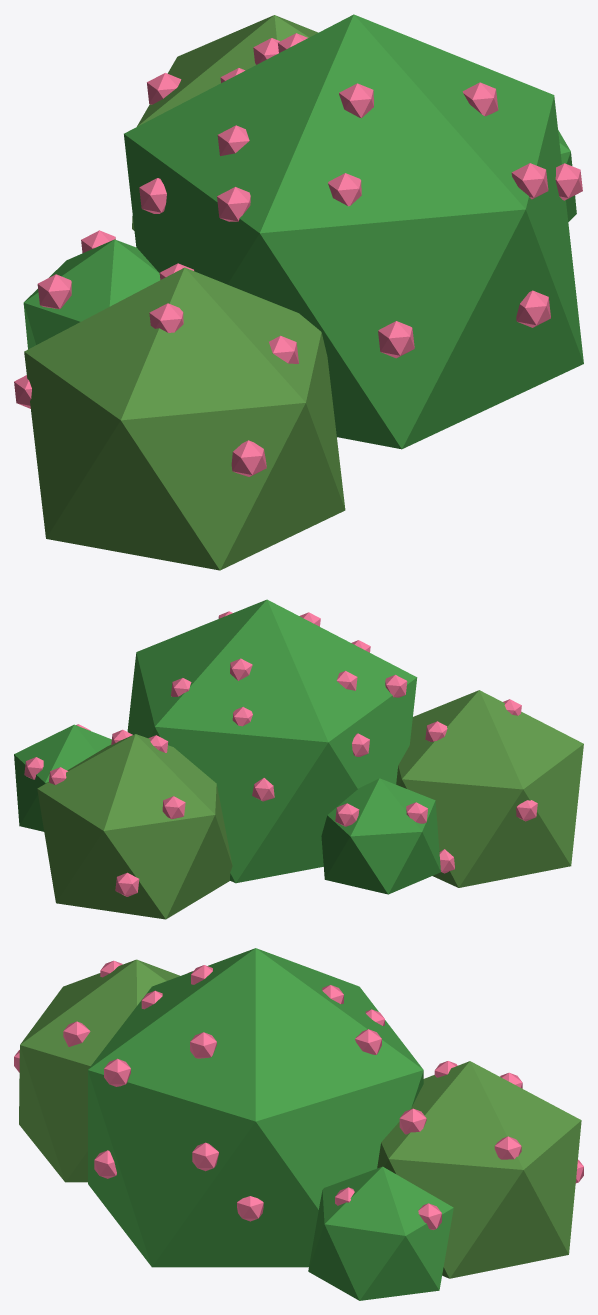
File: MediumFoodBush.fbx
3 views of the same model, one above another, from view 1: azimuth 30°, elevation 25°; view 2: azimuth 150°, elevation 25°; view 3: azimuth 270°, elevation 25° (orthographic). The views are drawn at different scales.
Visible parts, largest first — view 1: Icosphere, Icosphere.002, Icosphere.005, Icosphere.003, Icosphere.001; view 2: Icosphere, Icosphere.001, Icosphere.002, Icosphere.003, Icosphere.005, Icosphere.004; view 3: Icosphere, Icosphere.001, Icosphere.002, Icosphere.004, Icosphere.005.
Part boxes in pixels (x1,y1,x2,y2): Icosphere: [124, 14, 583, 449]; Icosphere.002: [24, 267, 345, 570]; Icosphere.005: [14, 33, 582, 476]; Icosphere.003: [23, 239, 160, 349]; Icosphere.001: [132, 15, 318, 230]; Icosphere: [127, 599, 417, 883]; Icosphere.001: [37, 734, 232, 919]; Icosphere.002: [396, 690, 583, 887]; Icosphere.003: [321, 778, 440, 894]; Icosphere.005: [24, 611, 537, 896]; Icosphere.004: [14, 724, 111, 831]; Icosphere: [88, 948, 423, 1267]; Icosphere.001: [377, 1061, 581, 1278]; Icosphere.002: [19, 959, 179, 1182]; Icosphere.004: [308, 1166, 453, 1300]; Icosphere.005: [14, 960, 583, 1229].
Bounding box in the file's own units: 303 × 166 × 289.
